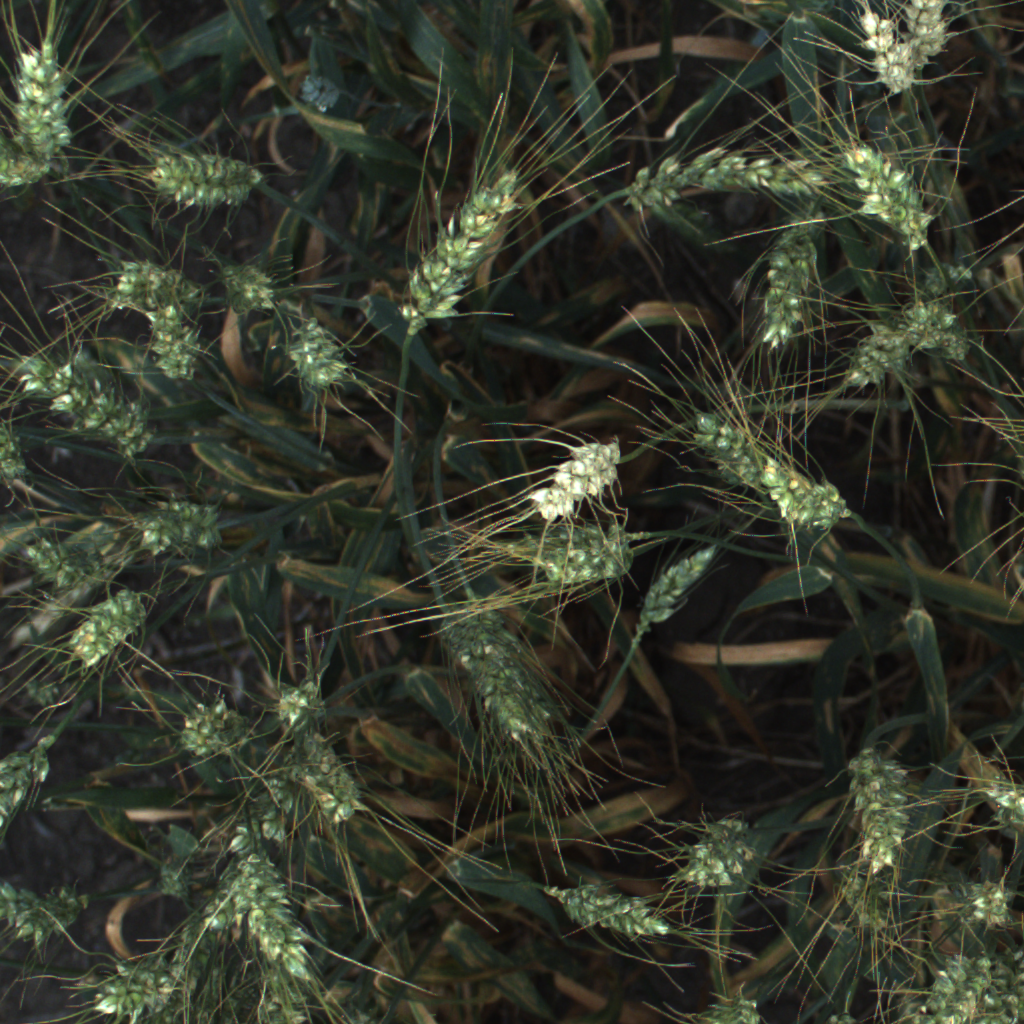wheat_head: (390, 154, 530, 338), (6, 336, 167, 463), (619, 128, 823, 224), (730, 205, 834, 362), (224, 842, 323, 987), (832, 727, 922, 886), (828, 131, 945, 247), (435, 620, 550, 736), (621, 530, 731, 651), (512, 424, 635, 530), (545, 865, 682, 951), (133, 134, 274, 214), (471, 602, 548, 746), (67, 946, 208, 1024), (114, 481, 234, 571), (54, 580, 165, 675), (1, 30, 83, 155), (92, 239, 215, 321), (0, 864, 95, 958), (673, 807, 760, 908), (286, 724, 365, 830), (0, 720, 66, 844), (278, 319, 372, 404), (196, 855, 289, 938), (848, 0, 925, 100), (18, 519, 113, 599), (161, 687, 254, 768), (908, 950, 1002, 1023), (138, 297, 214, 386), (761, 453, 853, 525), (534, 536, 649, 593), (838, 318, 913, 399), (696, 413, 772, 487), (219, 249, 291, 324), (264, 662, 335, 736), (895, 0, 965, 75), (677, 970, 773, 1024), (955, 869, 1024, 943), (0, 134, 63, 196), (965, 772, 1024, 830), (910, 301, 966, 358), (919, 260, 968, 297)
